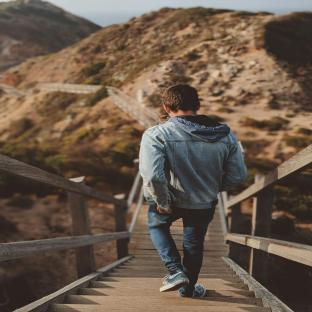Human: (139, 85, 247, 297)
